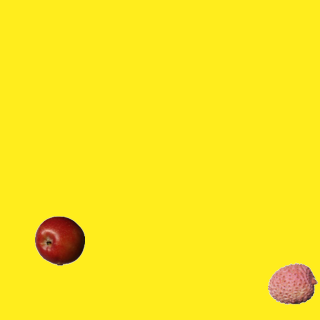Apple Braeburn: (34, 215, 84, 265)
Lychee: (267, 258, 317, 308)
